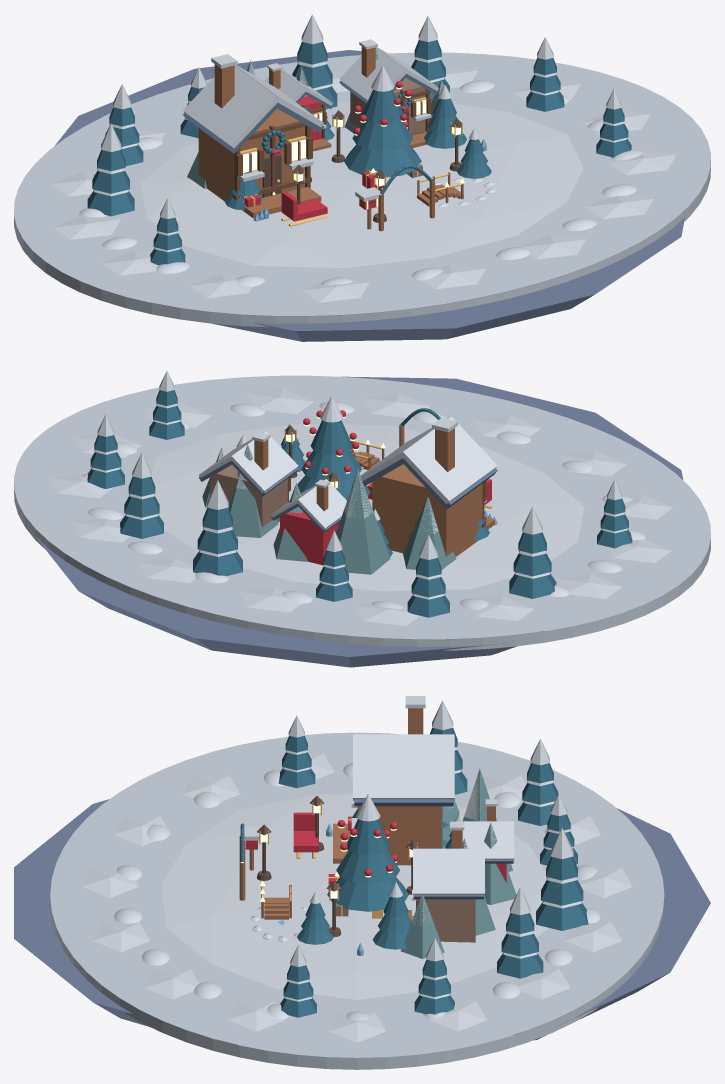
Rendered from alpine.glb.
3 views of the same model, one above another, from view 1: azimuth 30°, elevation 25°; view 2: azimuth 150°, elevation 25°; view 3: azimuth 270°, elevation 25° (orthographic). The views are drawn at different scales.
Visible parts, largest first — view 1: Continuous snow surface, Snow plateau, Floating island terrace, Full island snow blanket, Outer winter pine (×7), Roof snow, Cottage walls.001, Faceted pine, Faceted pine.001, Roof snow.002, Snow edge.013, Snow edge.007 (+16 smaller); view 2: Continuous snow surface, Snow plateau, Floating island terrace, Outer winter pine (×15), Alpine ridge (×4), Full island snow blanket, Cottage walls.001, Roof snow, Roof snow.002, Cottage walls, Cottage walls.002, Faceted pine.001 (+22 smaller); view 3: Continuous snow surface, Snow plateau, Floating island terrace, Full island snow blanket, Outer winter pine (×9), Roof snow.001, Alpine ridge (×4), Roof snow.003, Cottage walls.001, Cottage walls.002, Faceted pine, Roof snow.005 (+16 smaller).
Boxes of the visible parts, x1,y1,x2,y2 form: Continuous snow surface: (14, 52, 710, 315); Snow plateau: (140, 101, 583, 267); Floating island terrace: (55, 50, 686, 341); Full island snow blanket: (14, 160, 710, 327); Outer winter pine (×7): (87, 42, 564, 216); Roof snow: (183, 66, 279, 148); Cottage walls.001: (198, 108, 304, 201); Faceted pine: (344, 144, 421, 177); Faceted pine.001: (352, 120, 413, 150); Roof snow.002: (339, 48, 407, 100); Snow edge.013: (586, 195, 653, 219); Snow edge.007: (53, 216, 120, 239); Continuous snow surface: (14, 375, 710, 639); Snow plateau: (151, 424, 584, 591); Floating island terrace: (27, 376, 683, 667); Outer winter pine (×15): (87, 421, 632, 617); Alpine ridge (×4): (228, 444, 456, 574); Full island snow blanket: (14, 483, 710, 650); Cottage walls.001: (372, 464, 482, 556); Roof snow: (401, 417, 497, 504); Roof snow.002: (230, 431, 298, 492); Cottage walls: (280, 512, 339, 565); Cottage walls.002: (209, 465, 287, 527); Faceted pine.001: (301, 450, 361, 480); Continuous snow surface: (50, 732, 664, 1057); Snow plateau: (161, 794, 548, 1000); Floating island terrace: (14, 799, 710, 1044); Full island snow blanket: (50, 898, 664, 1069); Outer winter pine (×9): (278, 768, 588, 1014); Roof snow.001: (353, 734, 454, 800); Alpine ridge (×4): (400, 769, 516, 958); Roof snow.003: (413, 848, 484, 895); Cottage walls.001: (375, 806, 441, 865); Cottage walls.002: (425, 899, 475, 942); Faceted pine: (327, 877, 408, 911); Roof snow.005: (462, 821, 514, 859).
Bounding box in the file's own units: 4.96 × 1.68 × 4.49.
